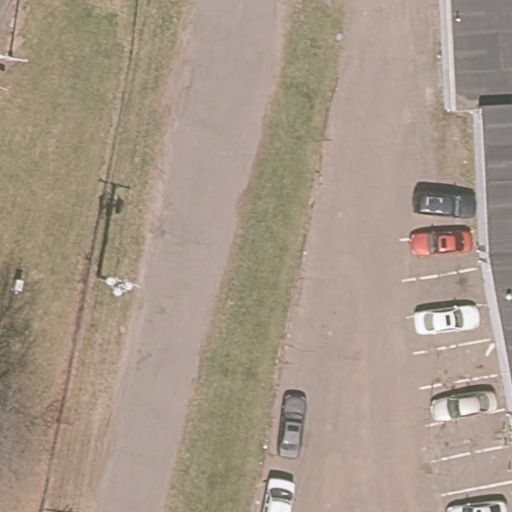DT: (105, 275, 140, 298)
